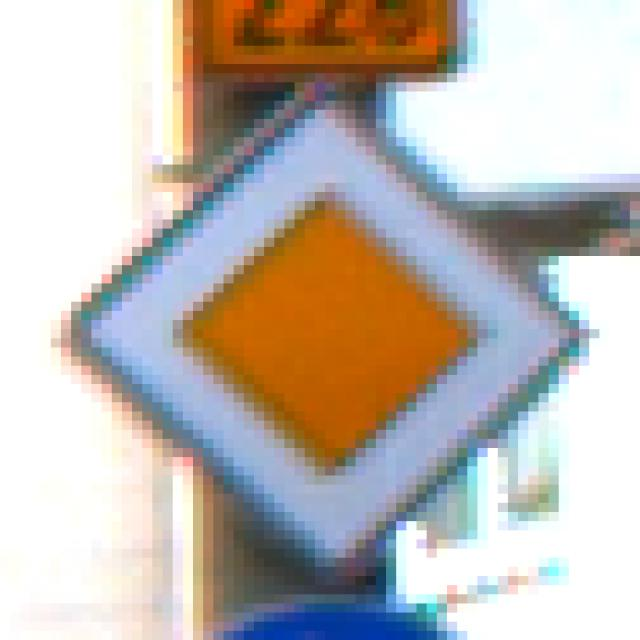Main Road: (52, 65, 590, 586)
